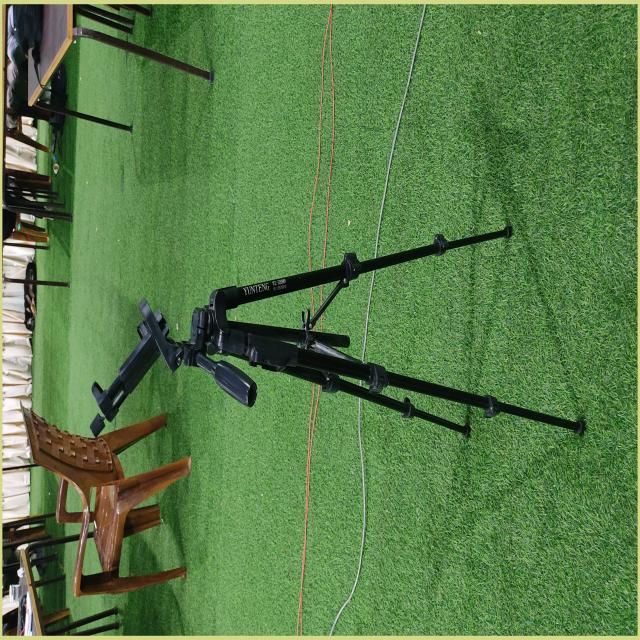Camer Stand: (89, 222, 586, 443)
Chair: (20, 400, 191, 598)
